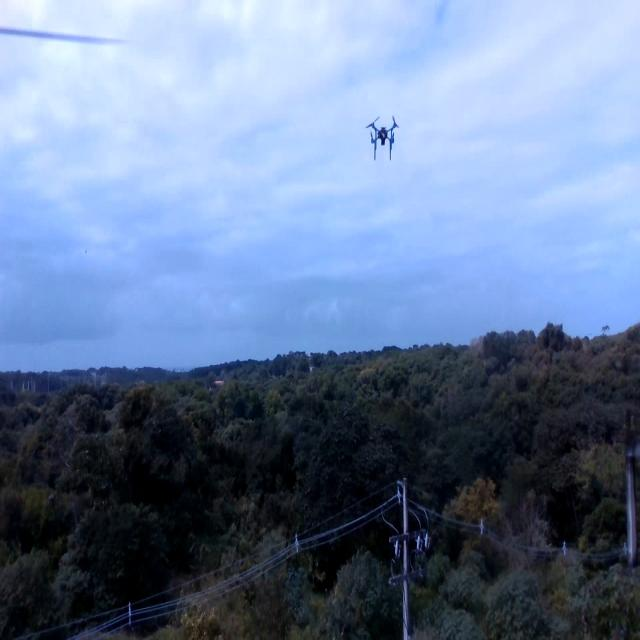-uav-: (358, 106, 406, 171)
